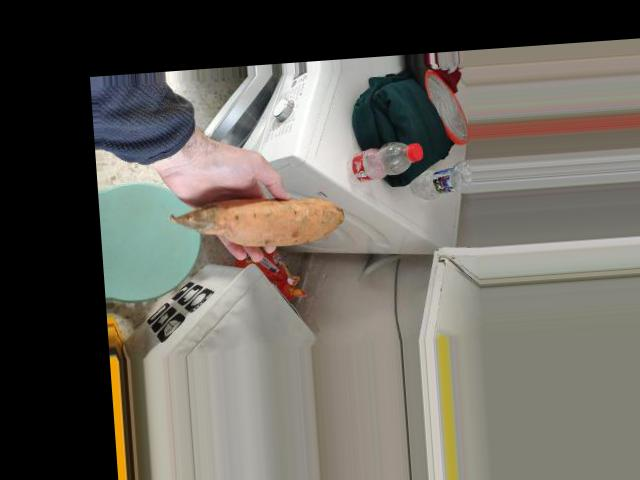sweet_potato: (204, 182, 360, 249)
